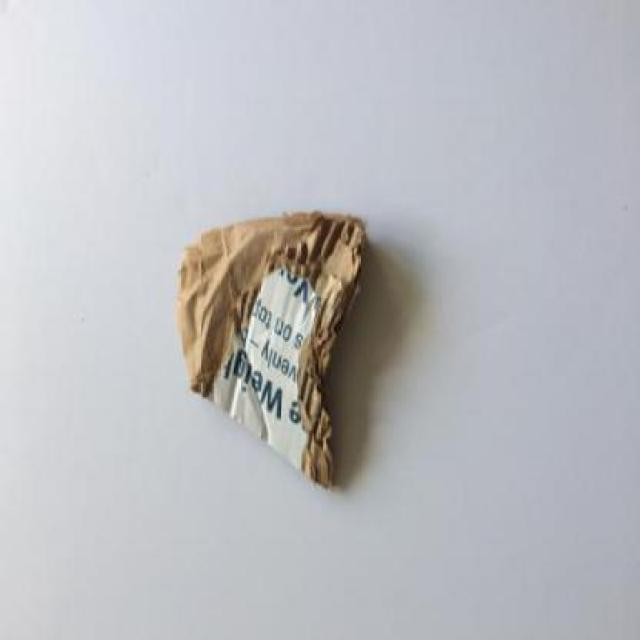box: (163, 186, 385, 537)
